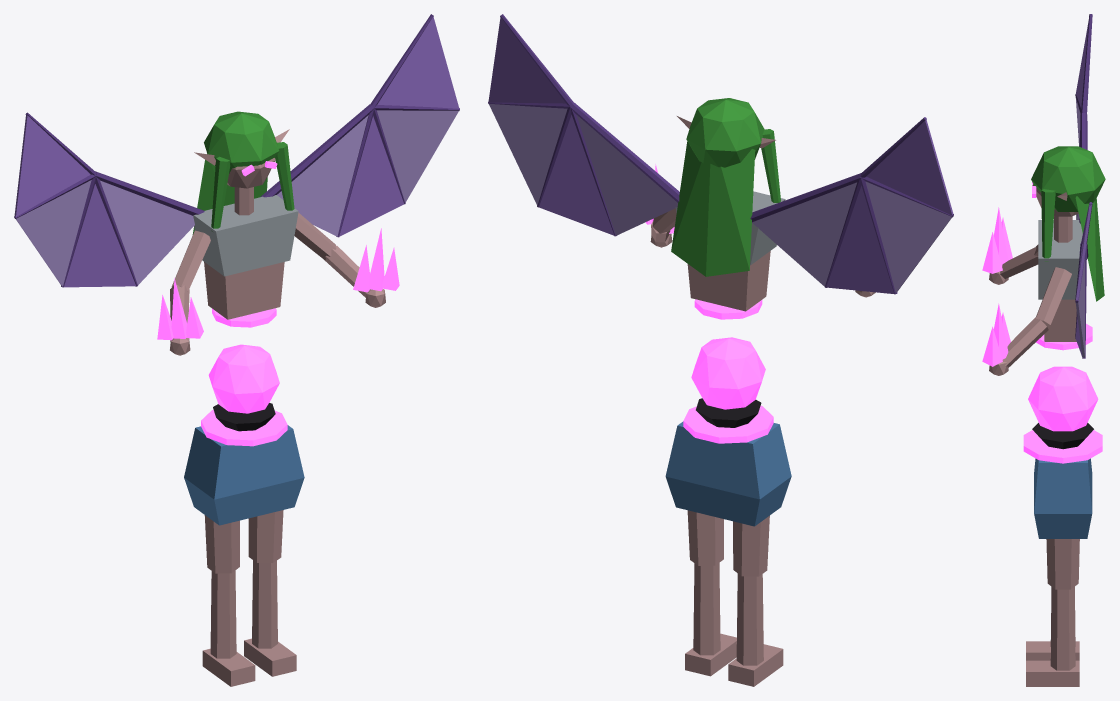
The model's file is mana_manananggal.glb.
The picture shows the model from 3 angles, left to right: view 1: azimuth 30°, elevation 25°; view 2: azimuth 150°, elevation 25°; view 3: azimuth 270°, elevation 25°; orthographic projection. The views are drawn at different scales.
Visible parts, largest first — view 1: UpperBody, LowerBody, WingR, WingL, Orb; view 2: LowerBody, WingL, WingR, UpperBody, Orb; view 3: UpperBody, LowerBody, Orb, WingR, WingL.
Part boxes in pixels (x1,y1,x2,y2): UpperBody: [157, 111, 399, 355]; LowerBody: [184, 410, 304, 686]; WingR: [261, 14, 459, 237]; WingL: [14, 112, 204, 287]; Orb: [208, 344, 279, 431]; LowerBody: [665, 405, 791, 686]; WingL: [750, 117, 953, 294]; WingR: [488, 14, 679, 236]; UpperBody: [645, 98, 875, 319]; Orb: [691, 337, 765, 427]; UpperBody: [982, 146, 1105, 375]; LowerBody: [1023, 430, 1102, 686]; Orb: [1028, 366, 1098, 449]; WingR: [1075, 202, 1092, 358]; WingL: [1075, 14, 1092, 223].
Size of the model in its own units: 2.36 by 3 by 0.595.
